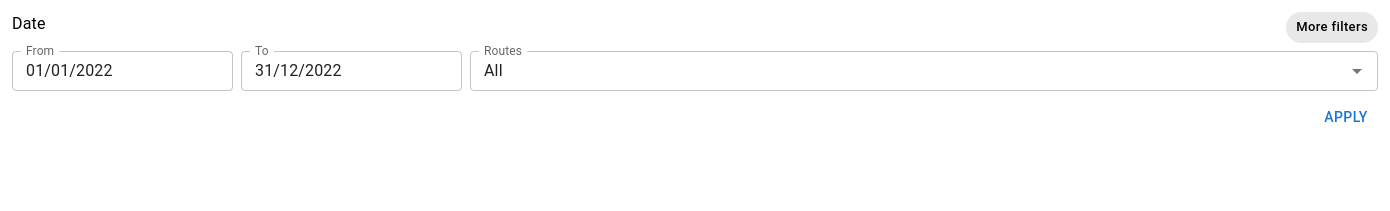
Test: Embarks filters › should display extend filters after click
Click the button "More filters" at (1332, 27), box [1286, 12, 1378, 43]
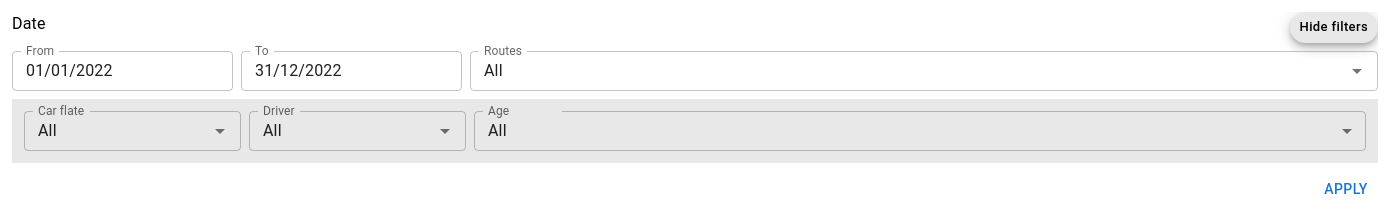
Expected: the element with test id "filter-expended" is shown, [12, 99, 1378, 163]
